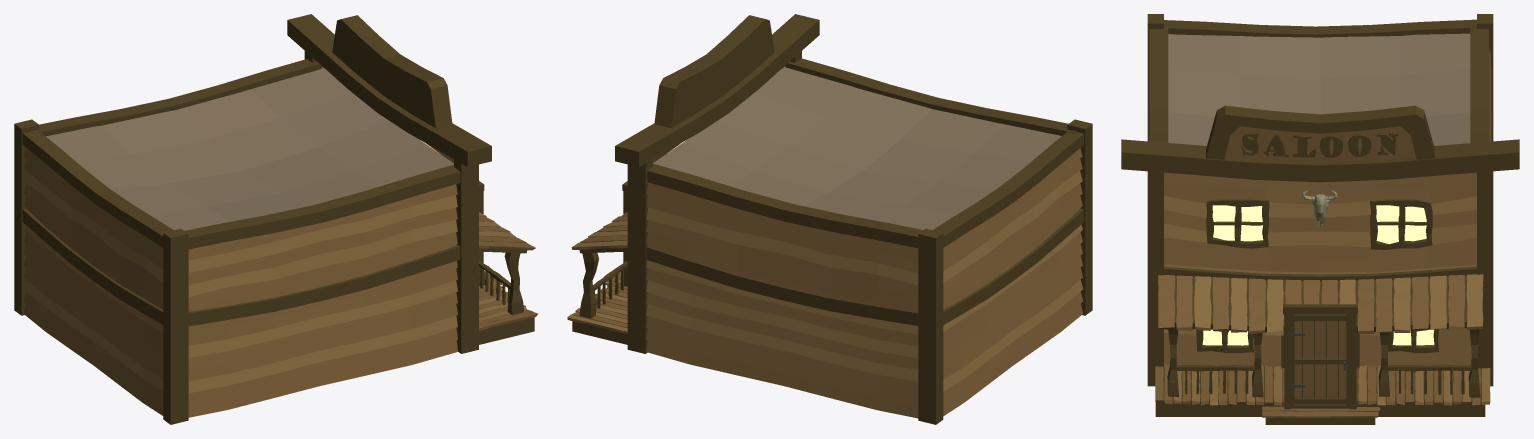
The model's file is office.glb.
3 views of the same model, side by side, from view 1: azimuth 30°, elevation 25°; view 2: azimuth 150°, elevation 25°; view 3: azimuth 270°, elevation 25° (orthographic). The views are drawn at different scales.
Visible parts, largest first — view 1: Cube.010; view 2: Cube.010; view 3: Cube.010, DoorPanel, DoorFrame.
Boxes of the visible parts, x1,y1,x2,y2 form: Cube.010: (14,14,538,424); Cube.010: (567,14,1092,424); Cube.010: (1121,14,1519,424); DoorPanel: (1290,314,1350,405); DoorFrame: (1283,304,1357,409).
Size of the model in its own units: 11.88 by 7.3 by 9.68.
